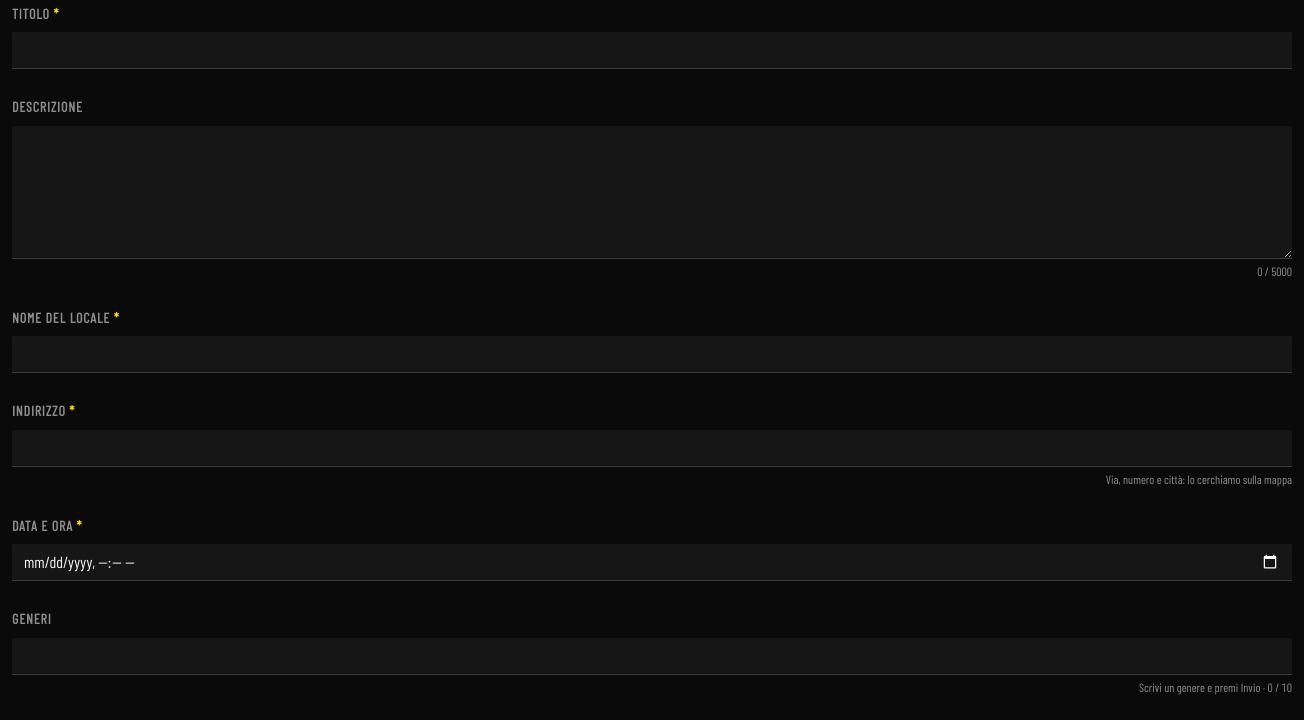
Test case: ConcertForm › ADDRESS_NOT_FOUND evidenzia il campo indirizzo e lascia il resto com'è
Type "Serata rock" into the field labelled "Titolo" at (652, 51), box [12,32,1292,69]
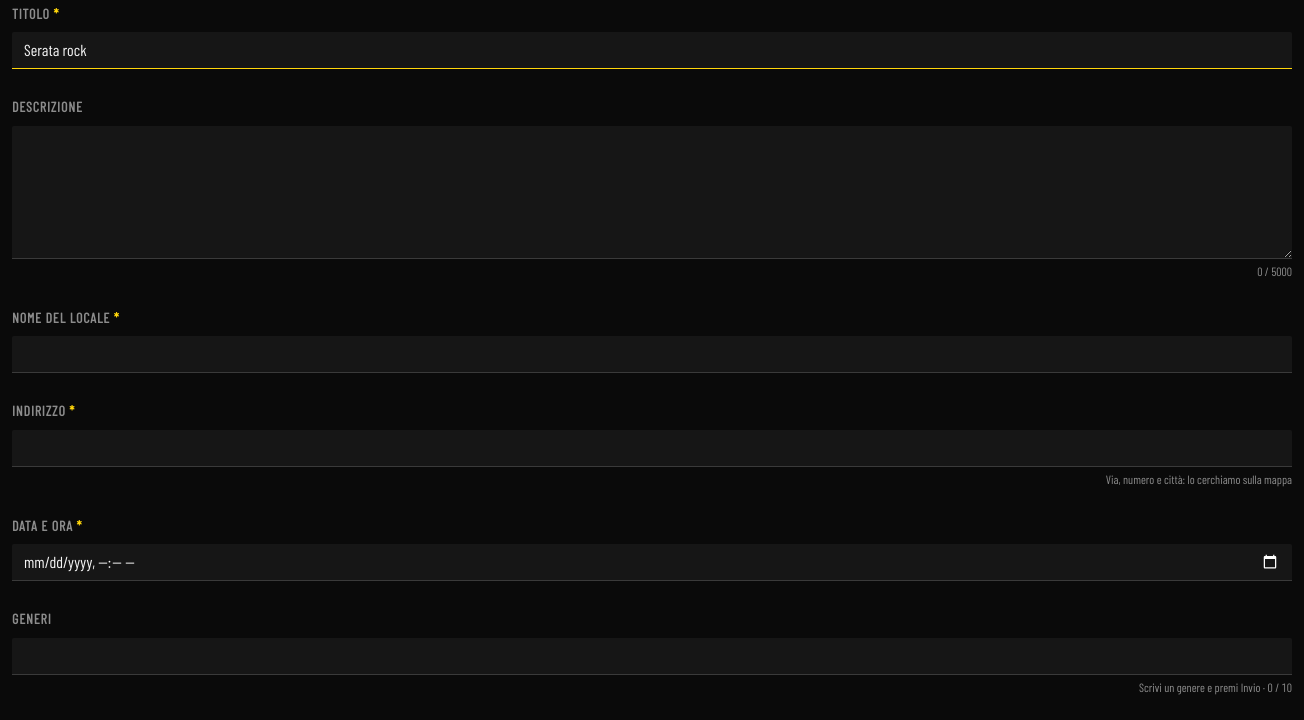
Type "Viper Theatre" into the field labelled "Nome del locale" at (652, 355), box [12,336,1292,373]
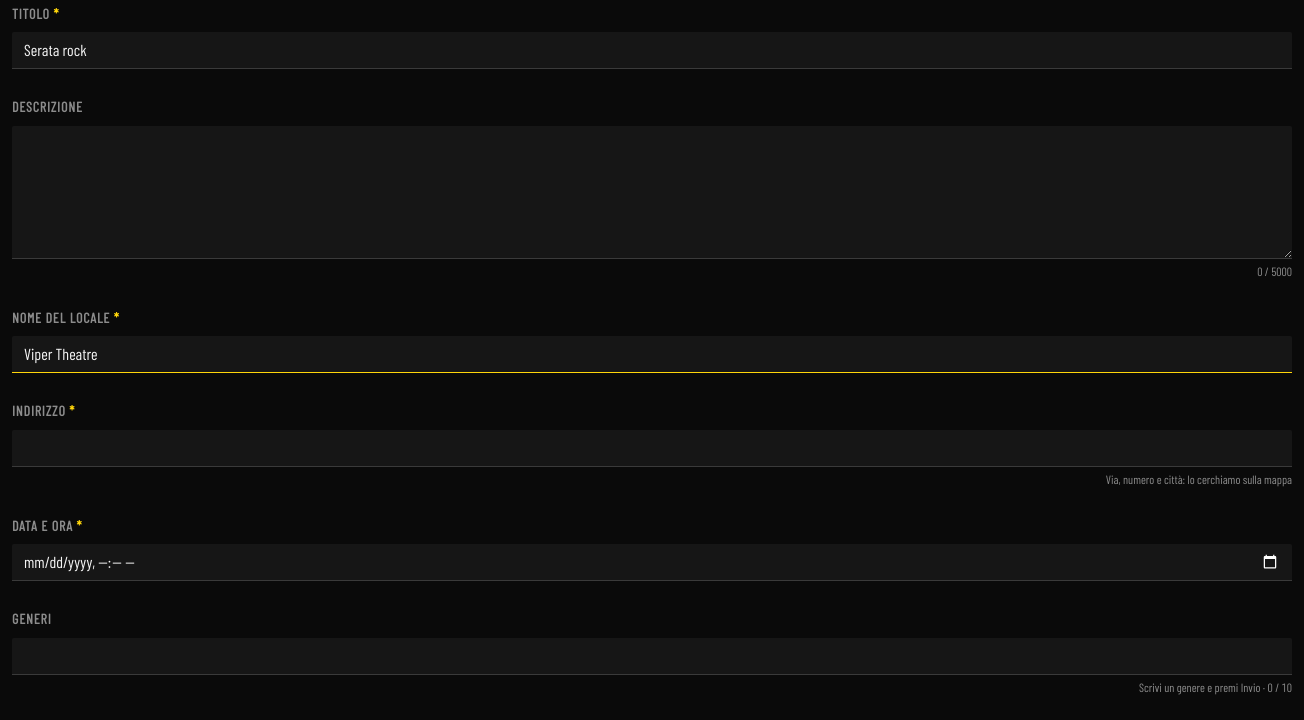
Type "Via Pistoiese 309, Firenze" into the field labelled "Indirizzo" at (652, 448), box [12,430,1292,467]
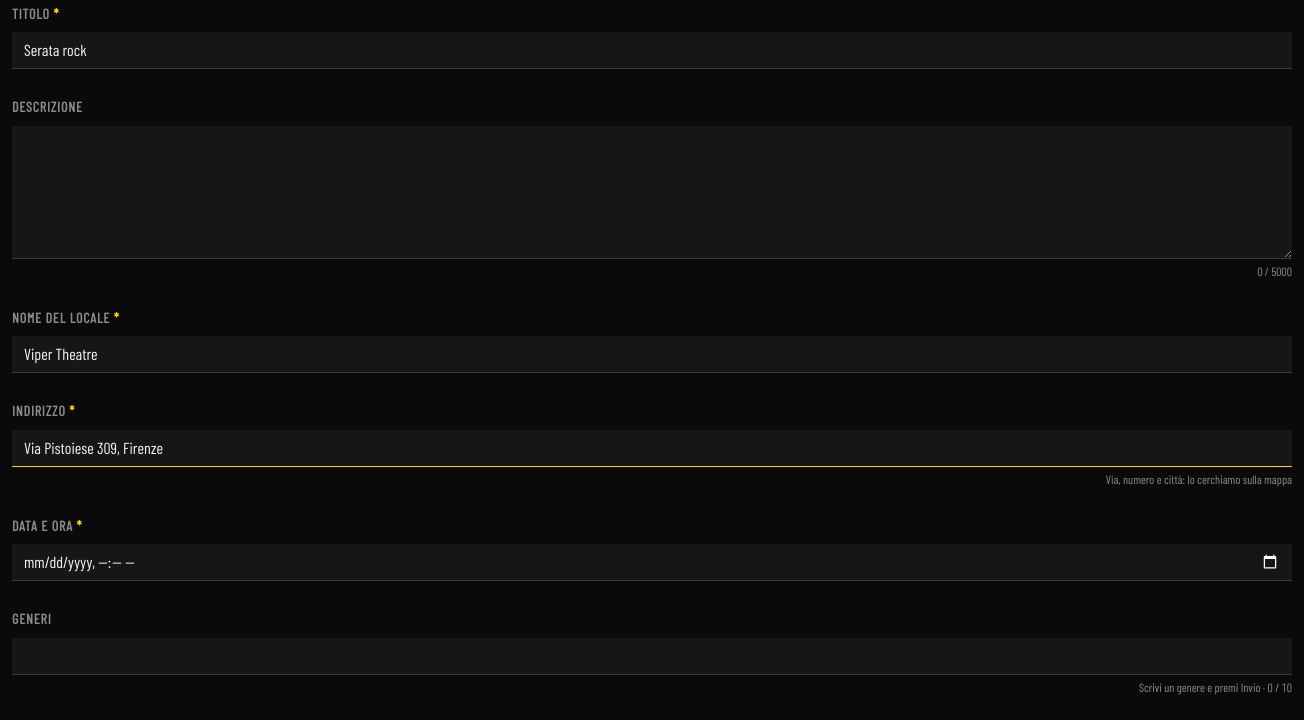
Type "2099-01-01T21:00" into the field labelled "Data e ora" at (652, 563), box [12,544,1292,581]
(page scrolled)
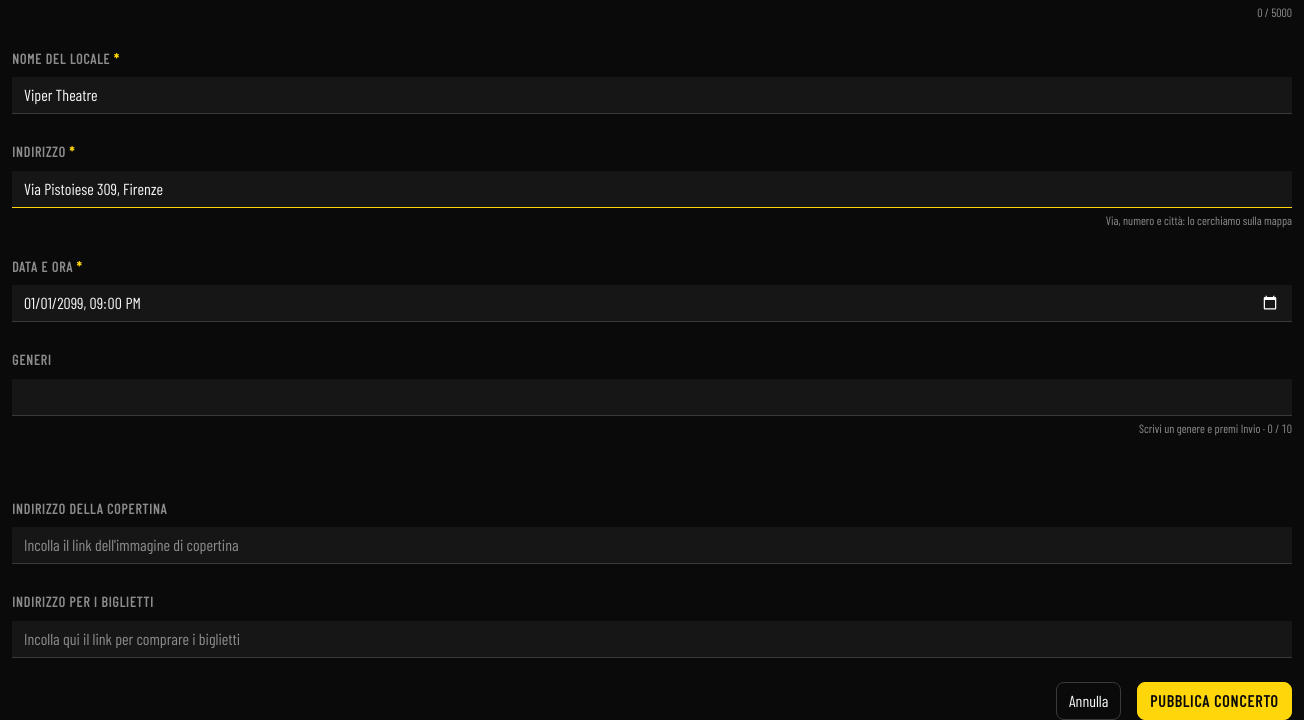
Click the button "Pubblica concerto" at (1215, 700), box [1137,682,1292,719]
(page scrolled)
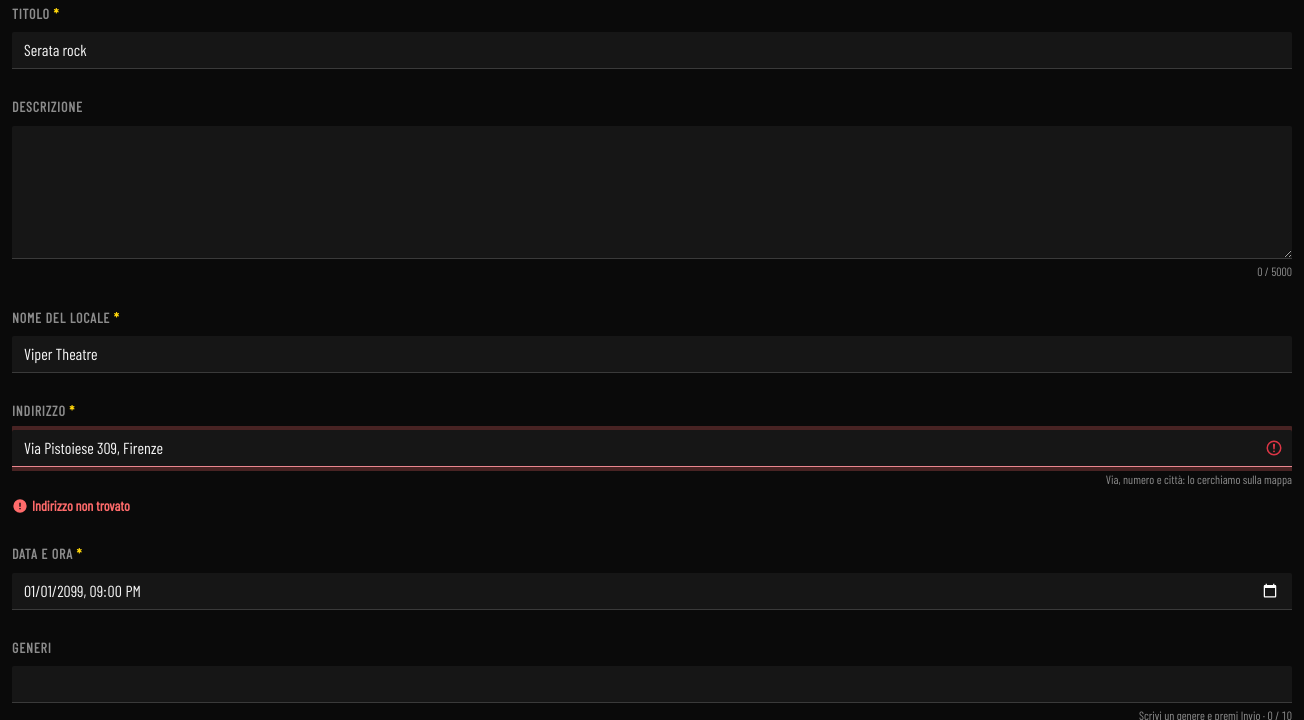
Now the text "Indirizzo non trovato" is shown, box [32,496,130,516]
